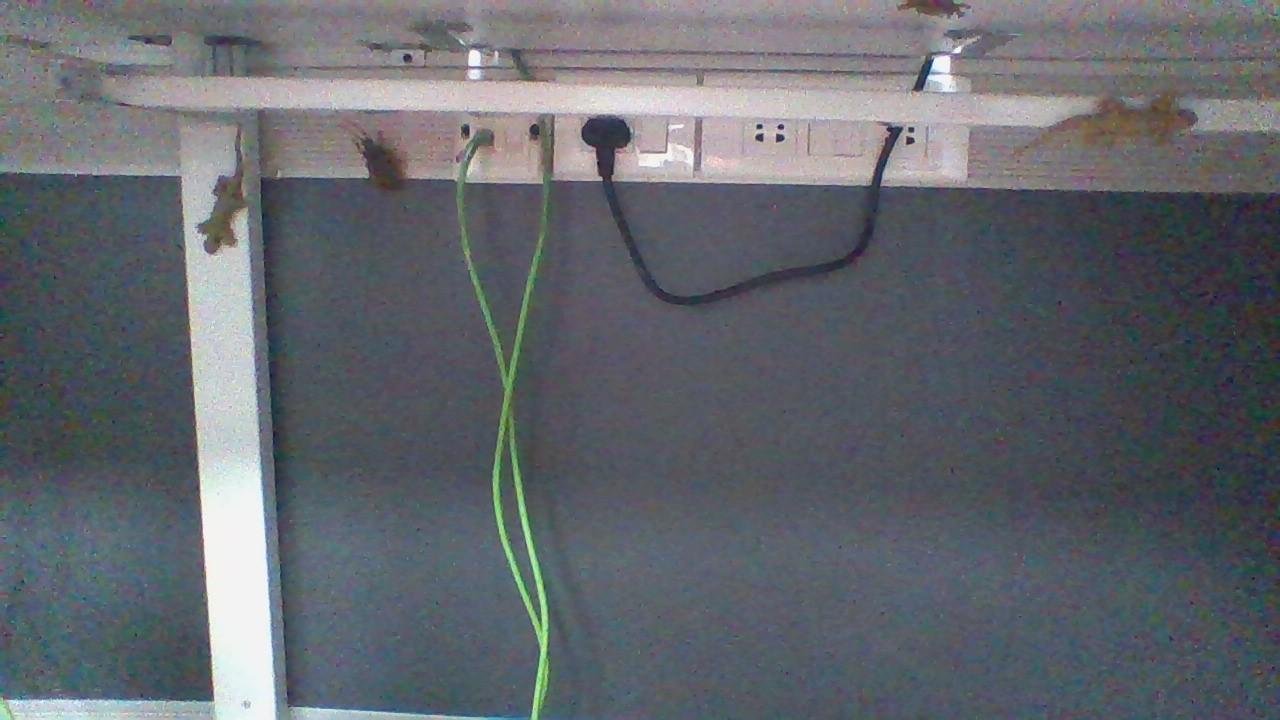cockroach: (339, 103, 417, 202), (889, 3, 974, 31)
lizard: (1007, 99, 1201, 158), (199, 120, 248, 266)
